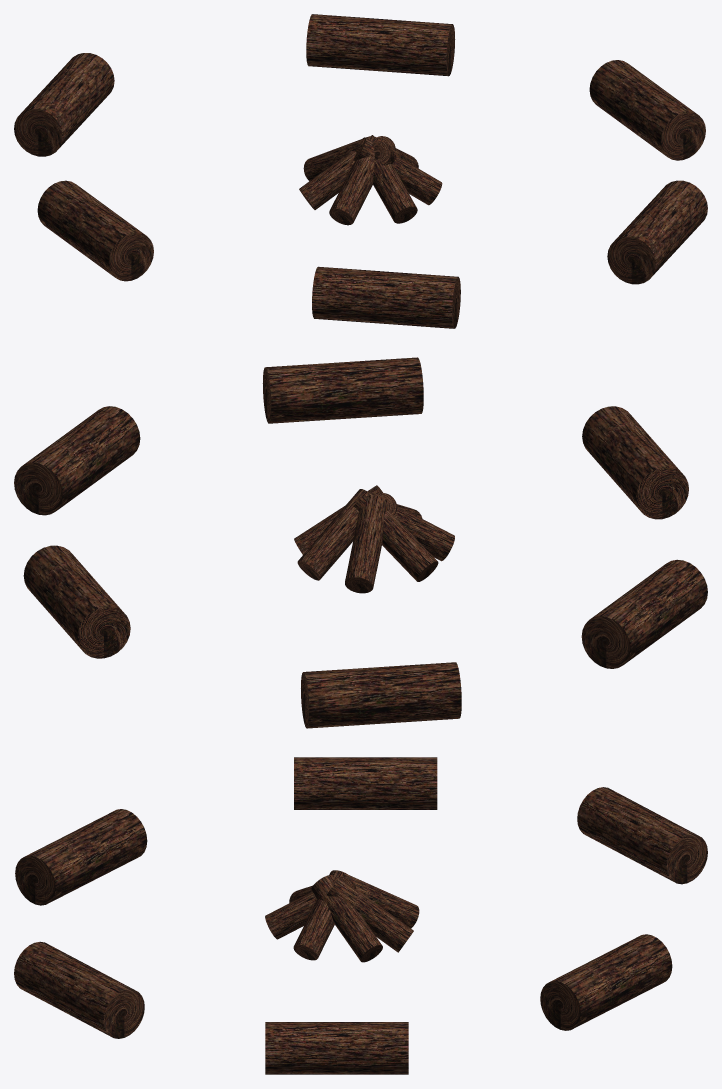
Rendered from firelogs.obj.
3 views of the same model, one above another, from view 1: azimuth 30°, elevation 25°; view 2: azimuth 150°, elevation 25°; view 3: azimuth 270°, elevation 25° (orthographic). The views are drawn at different scales.
Parts seen in each view (by area): view 1: Cylinder42, Cylinder41, Cylinder14, Cylinder38, Cylinder40, Cylinder39, Cylinder32, Cylinder15, Cylinder37, Cylinder33, Cylinder34, Cylinder36; view 2: Cylinder40, Cylinder39, Cylinder14, Cylinder38, Cylinder41, Cylinder42, Cylinder34, Cylinder35, Cylinder33, Cylinder32, Cylinder36; view 3: Cylinder14, Cylinder38, Cylinder41, Cylinder42, Cylinder40, Cylinder39, Cylinder36, Cylinder35, Cylinder37, Cylinder15, Cylinder34.
Part boxes in pixels (x1,y1,x2,y2): Cylinder42: [306, 14, 455, 76]; Cylinder41: [312, 266, 460, 328]; Cylinder14: [37, 180, 153, 281]; Cylinder38: [589, 60, 705, 160]; Cylinder40: [607, 180, 707, 284]; Cylinder39: [14, 53, 114, 156]; Cylinder32: [329, 137, 384, 225]; Cylinder15: [369, 137, 417, 223]; Cylinder37: [353, 137, 442, 205]; Cylinder33: [299, 135, 377, 209]; Cylinder34: [303, 136, 371, 180]; Cylinder36: [371, 141, 418, 168]; Cylinder40: [262, 357, 423, 423]; Cylinder39: [301, 662, 461, 728]; Cylinder14: [581, 559, 707, 668]; Cylinder38: [14, 406, 140, 515]; Cylinder41: [582, 406, 688, 519]; Cylinder42: [23, 545, 130, 658]; Cylinder34: [345, 495, 387, 593]; Cylinder35: [297, 489, 369, 580]; Cylinder33: [353, 492, 438, 581]; Cylinder32: [368, 491, 454, 561]; Cylinder36: [294, 485, 382, 554]; Cylinder14: [294, 757, 437, 809]; Cylinder38: [265, 1022, 408, 1074]; Cylinder41: [15, 809, 147, 905]; Cylinder42: [540, 934, 672, 1030]; Cylinder40: [14, 941, 144, 1038]; Cylinder39: [577, 787, 707, 884]; Cylinder36: [311, 875, 382, 962]; Cylinder35: [326, 877, 413, 952]; Cylinder37: [293, 870, 350, 960]; Cylinder15: [265, 879, 347, 939]; Cylinder34: [342, 872, 419, 928].
Size of the model in its own units: 2.63 by 0.2831 by 2.68.
Materials: 1 (1 with a texture image).
